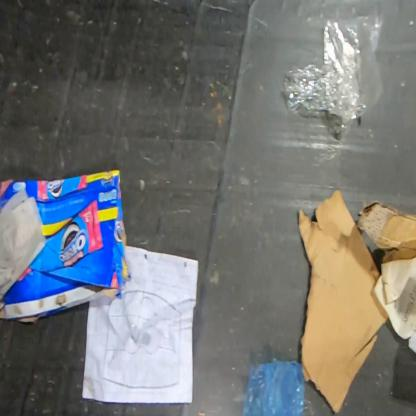cardboard: (298, 188, 390, 414), (0, 169, 131, 324), (356, 199, 415, 264)
soft_plastic: (282, 2, 385, 142), (241, 358, 306, 415)
